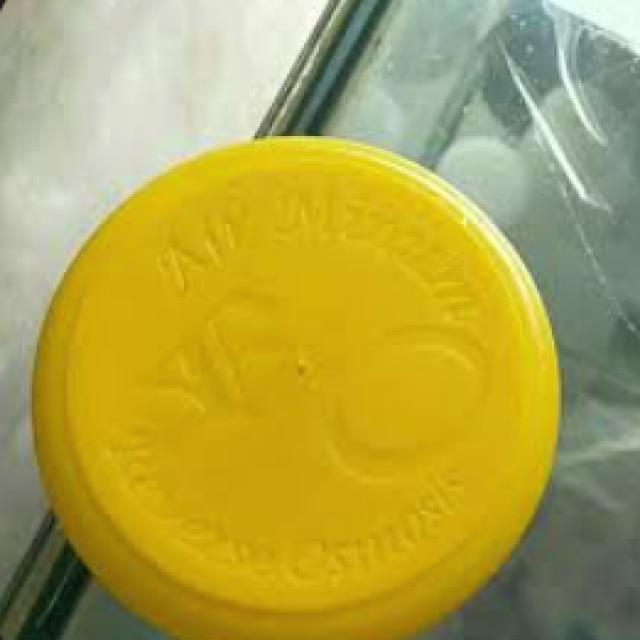TutupGalon: (28, 112, 557, 632)
